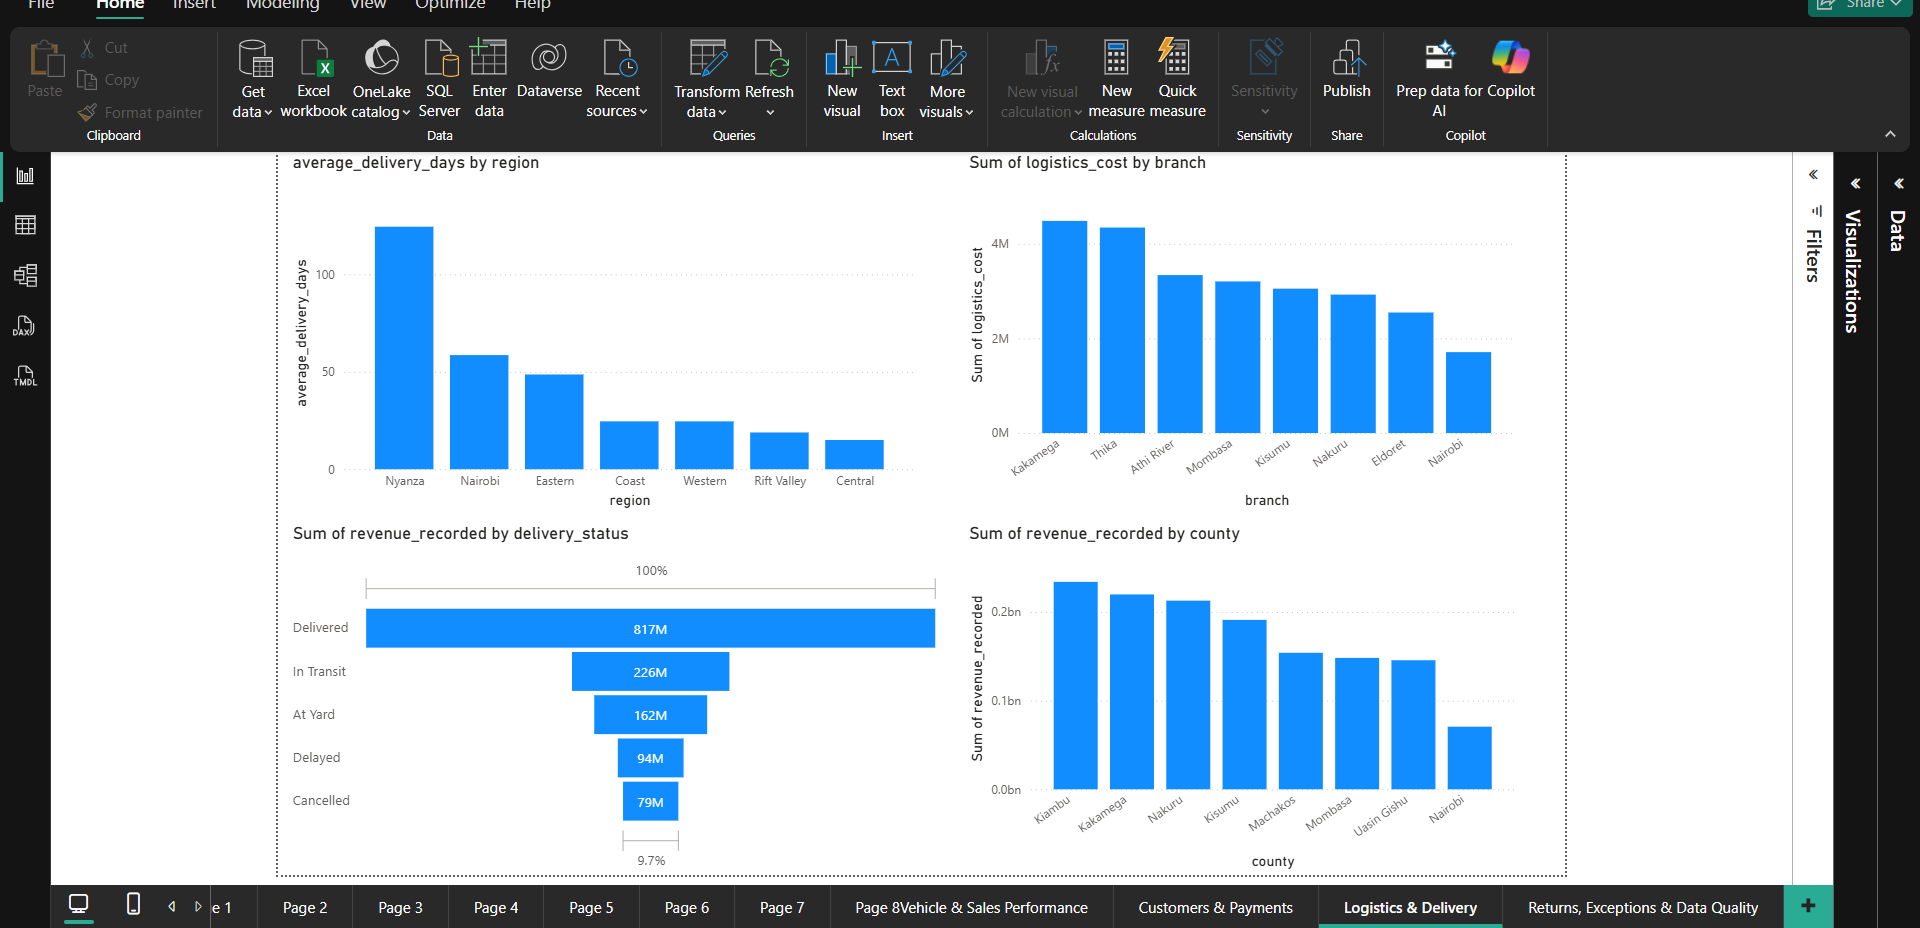

The page's visual inventory and layout, read from the dashboard file:
{"tool":"powerbi","page":{"name":"Logistics & Delivery","canvas":[1280,720],"ordinal":10},"visuals":[{"type":"clusteredColumnChart","fields":{"Y":["logistics car_sales.average_delivery_days"],"Category":["logistics car_sales.region"]},"box":[10,0,629.4,359.5],"z":0},{"type":"funnel","fields":{"Category":["logistics car_sales.delivery_status"],"Y":["Sum(logistics car_sales.revenue_recorded)"]},"box":[10,369.5,654.3,350.8],"z":1},{"type":"clusteredColumnChart","fields":{"Y":["Sum(logistics car_sales.logistics_cost)"],"Category":["logistics car_sales.branch"]},"box":[682.9,0,553.6,359.5],"z":2},{"type":"clusteredColumnChart","fields":{"Category":["logistics car_sales.county"],"Y":["Sum(logistics car_sales.revenue_recorded)"]},"box":[682.9,369.5,553.6,349.6],"z":3}]}

Visuals, with their boxes on the page's 1280x720 design canvas (x1, y1, x2, y2). These are canvas units, not pixel positions in the 1920x928 screenshot, which may show the page scaled, cropped or inside an application window:
clusteredColumnChart - logistics car_sales.average_delivery_days x logistics car_sales.region: x1=10, y1=0, x2=639, y2=360
funnel - logistics car_sales.delivery_status x Sum(logistics car_sales.revenue_recorded): x1=10, y1=370, x2=664, y2=720
clusteredColumnChart - Sum(logistics car_sales.logistics_cost) x logistics car_sales.branch: x1=683, y1=0, x2=1236, y2=360
clusteredColumnChart - logistics car_sales.county x Sum(logistics car_sales.revenue_recorded): x1=683, y1=370, x2=1236, y2=719
